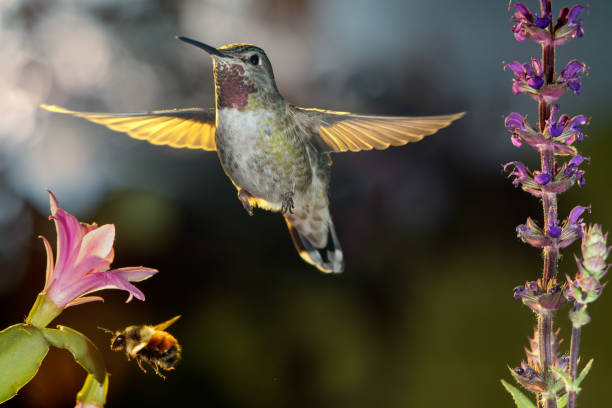Bird: (39, 34, 468, 280)
